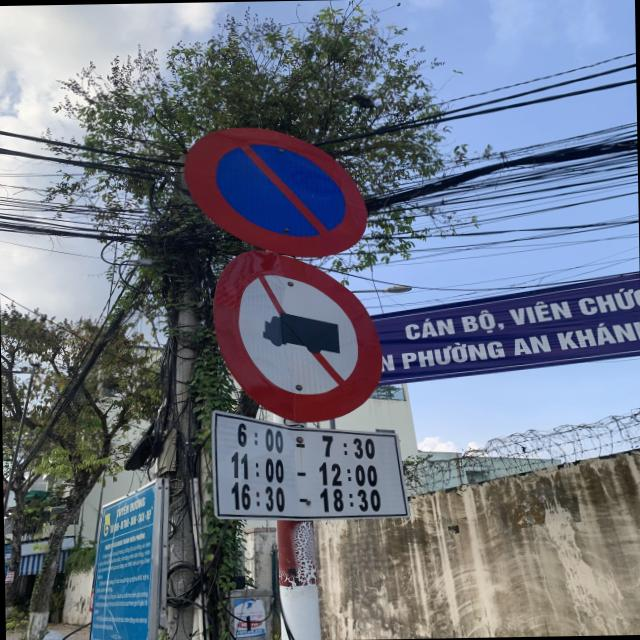Cam_Dau_Xe: (182, 125, 368, 261)
Cam_Xe_Tai: (209, 247, 389, 426)
